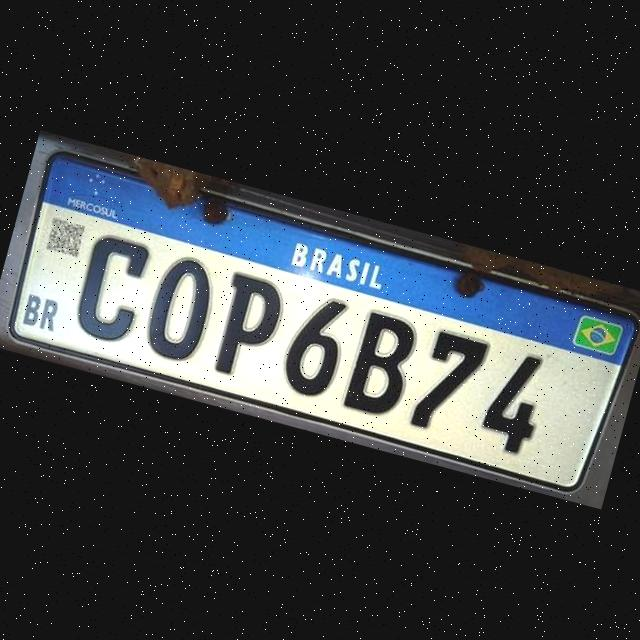Caractere: (403, 324, 492, 444), (66, 227, 152, 350), (202, 268, 290, 388), (138, 248, 224, 369), (340, 306, 425, 424), (275, 286, 354, 402), (474, 343, 553, 459)
Placa: (0, 143, 640, 499)
